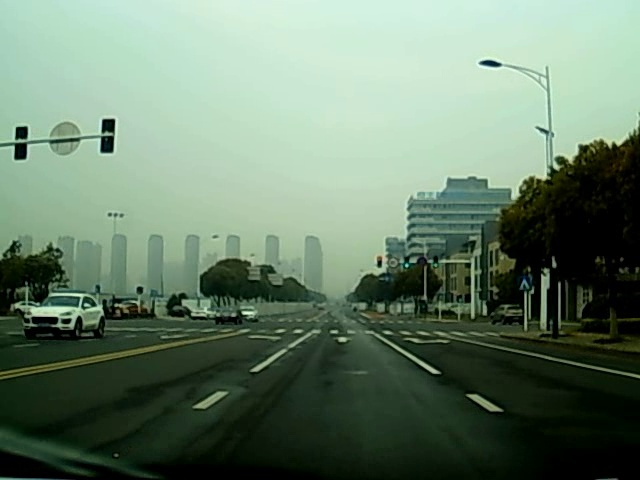Traffic_Light_go: (402, 256, 410, 271), (432, 256, 438, 269)
Traffic_Light_stop: (376, 256, 383, 271)
